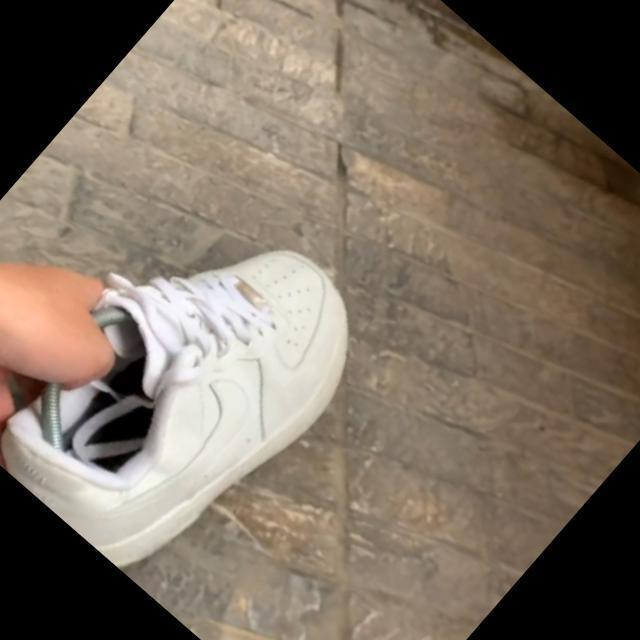nike fake air force: (0, 152, 418, 619)
